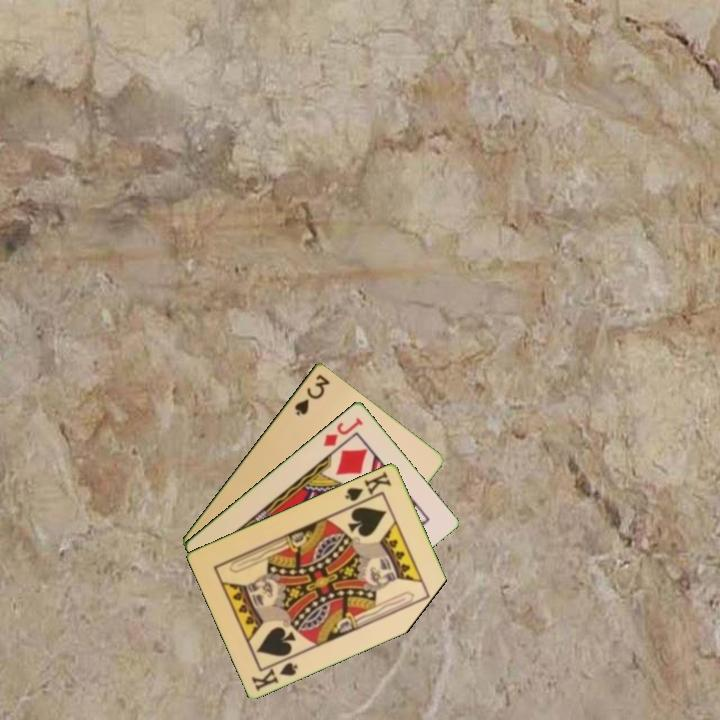3s: (291, 370, 333, 418)
Jd: (320, 413, 366, 449)
Ks: (341, 467, 394, 509), (248, 653, 301, 694)
